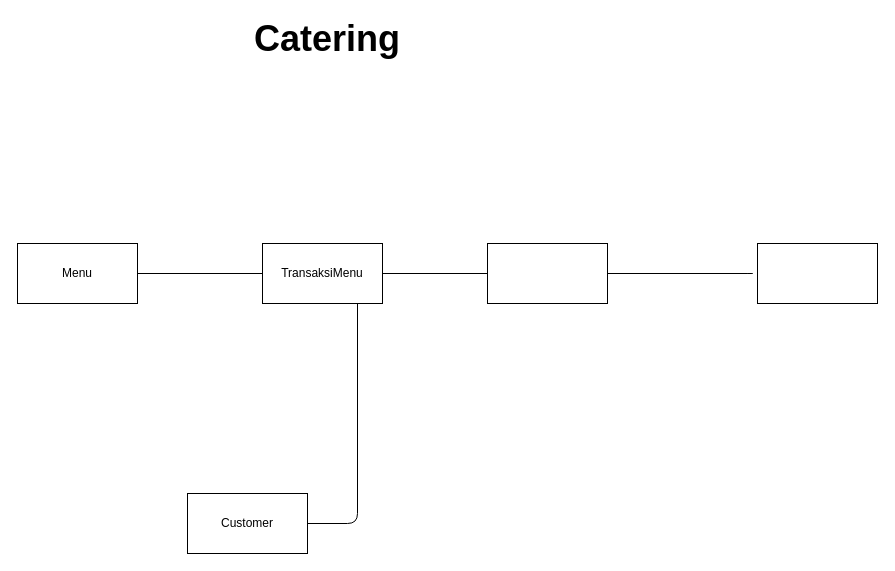
Image size: 895x571. Some labels were removed from this diagram. Here are the shapes that lost their labels. From the top down, the centre of each, then its label:
At point 547,273: "Transaksi".
At point 817,273: "Admin".
